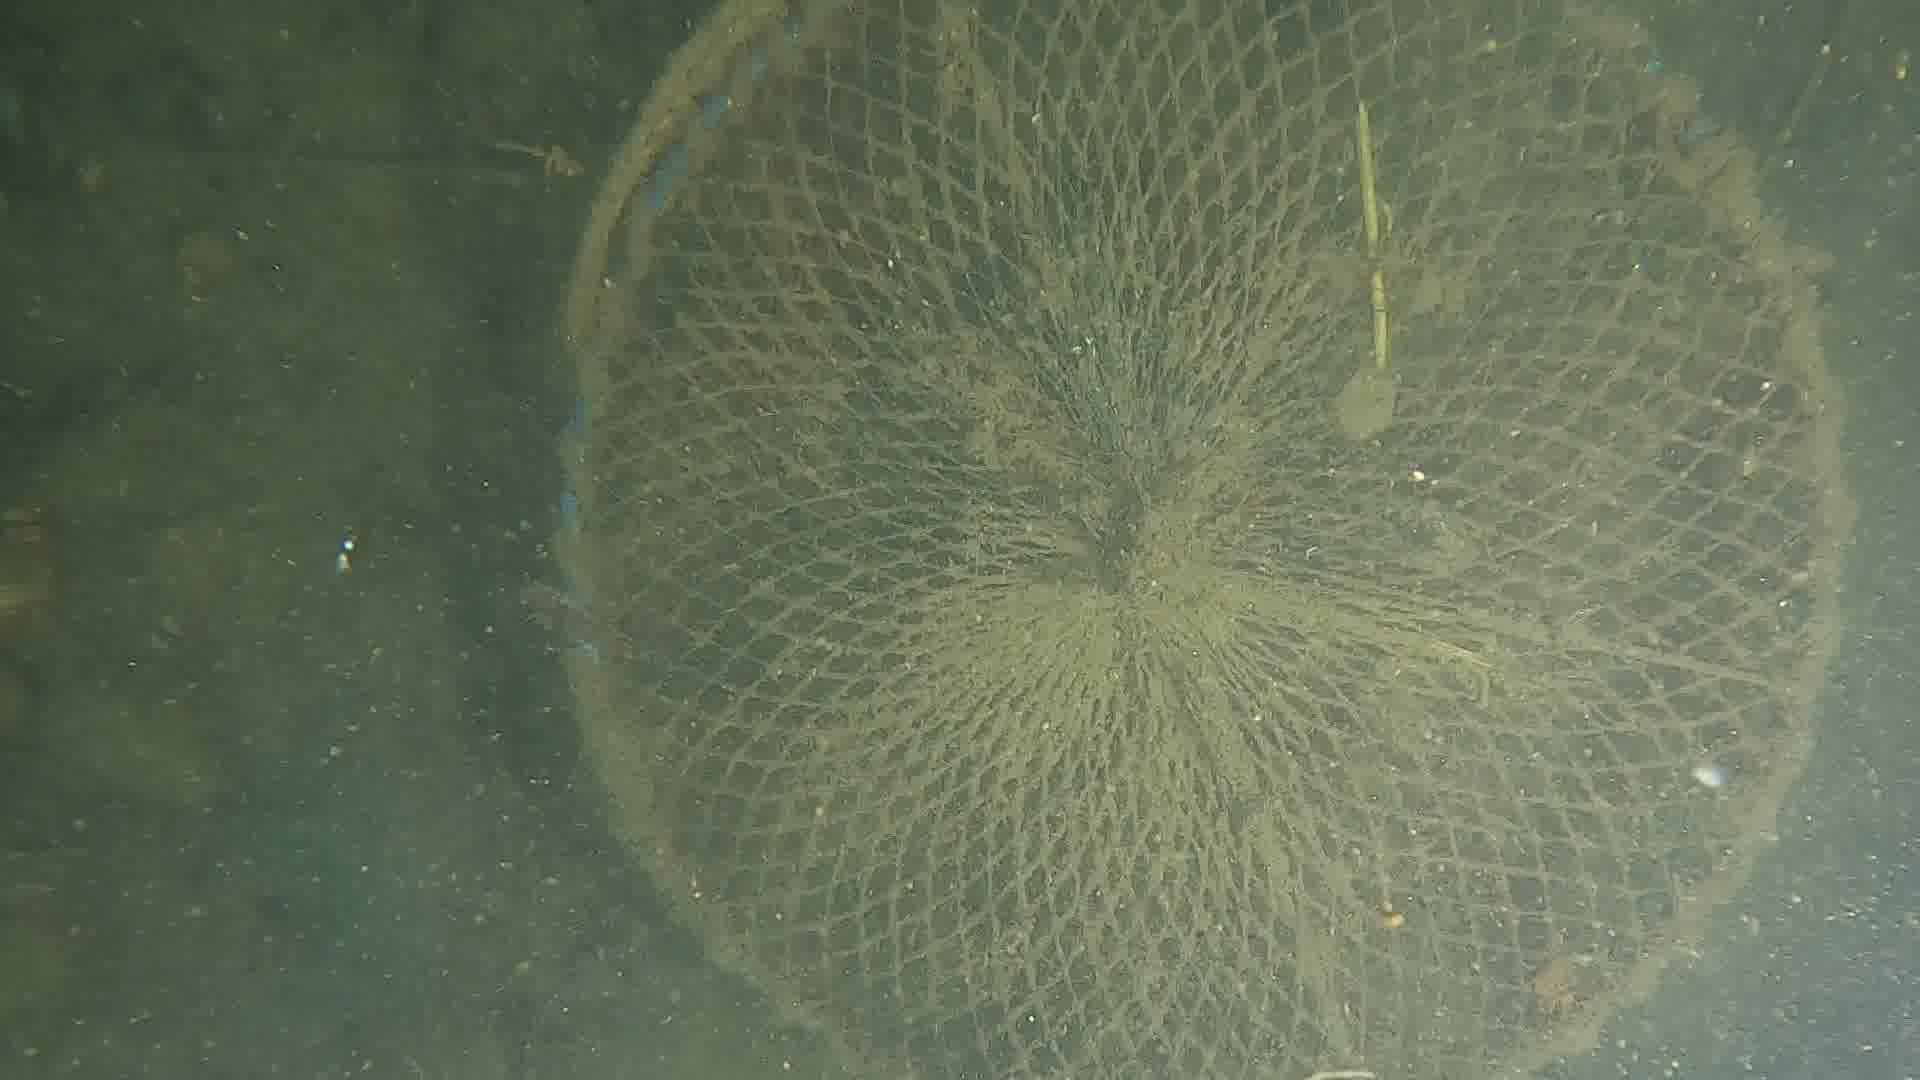circular fish trap: (543, 0, 1865, 1080)
